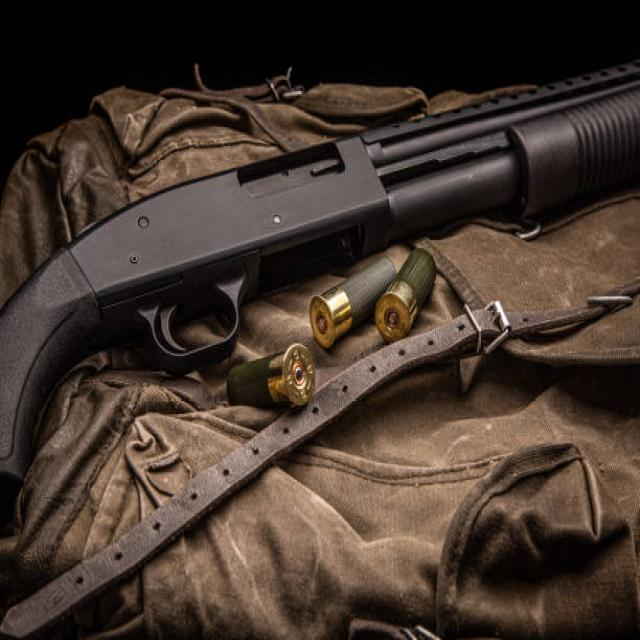ShotGun: (0, 61, 640, 493)
